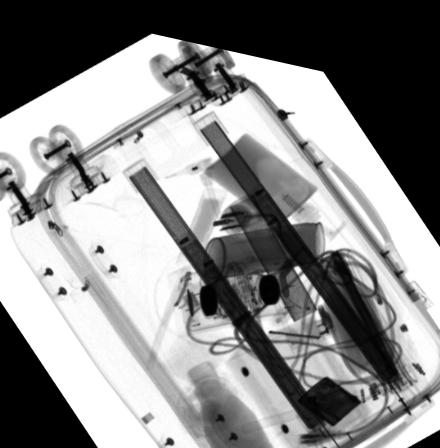Lighter: (297, 359, 361, 410)
